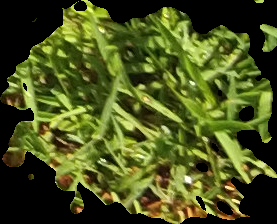grass: (1, 1, 275, 222)
